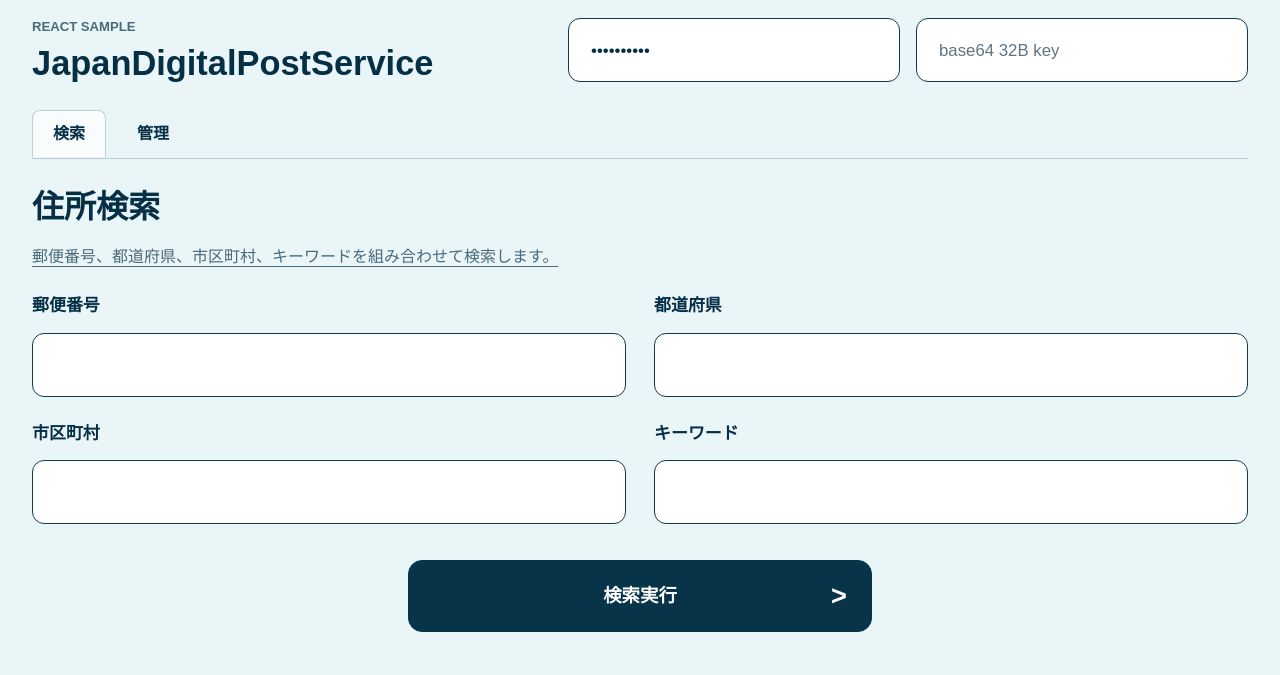
Test: App › shows guidance when encrypted API responses arrive without a configured key
Type "1000001" into the field labelled "郵便番号".
click(329, 365); type("1000001")  # box [32,333,626,397]
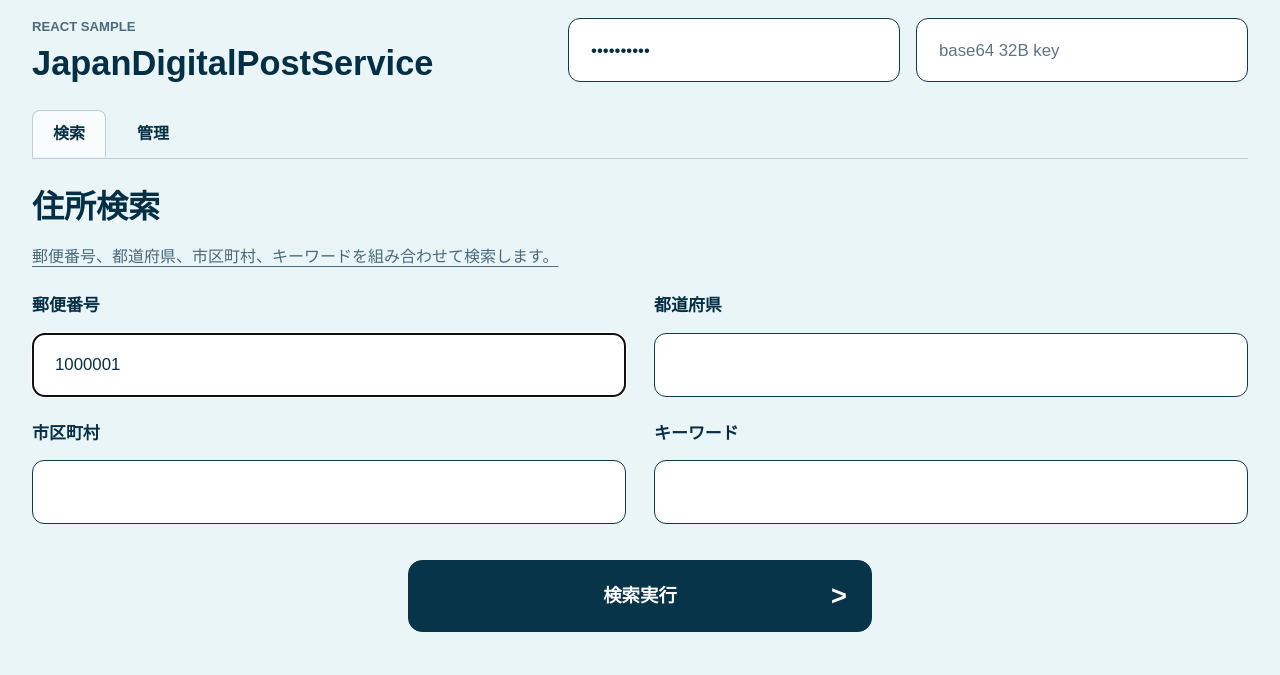
Click the button "検索実行".
click(640, 596)  # box [408,560,872,632]
(page scrolled)
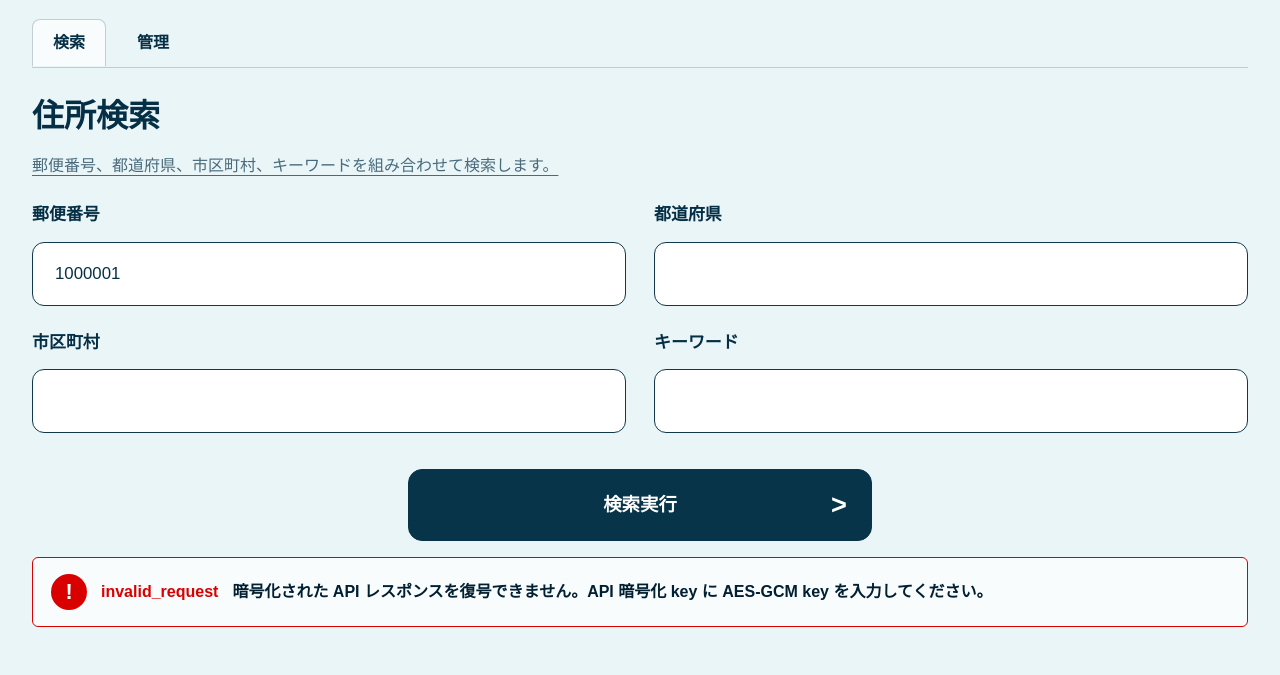
Check: the message shows "AES-GCM key", box [232,583,992,600]
